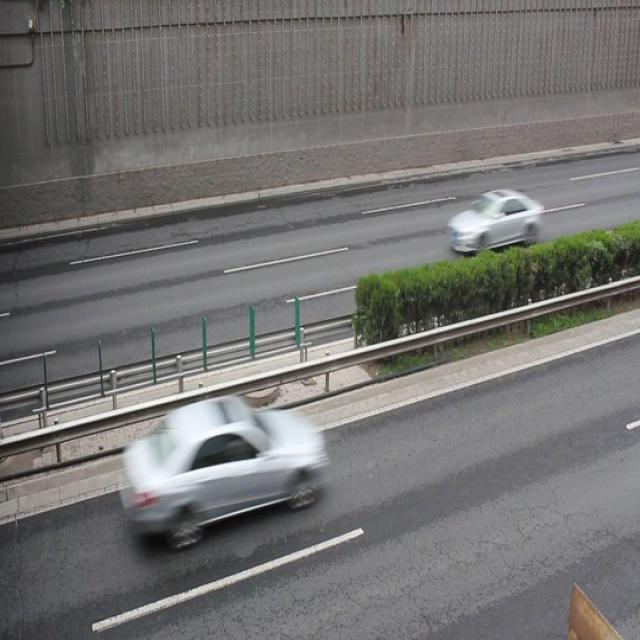car: (118, 395, 324, 546), (446, 186, 540, 258)
